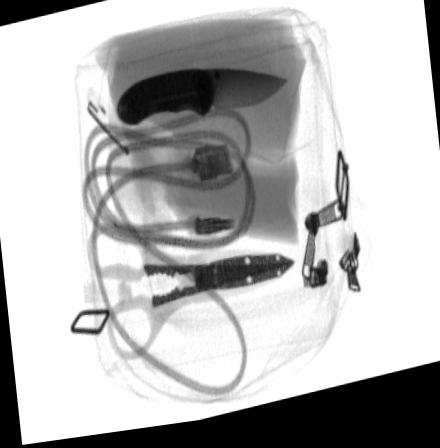Knife: (114, 73, 289, 131)
Scissors: (87, 222, 296, 360)
